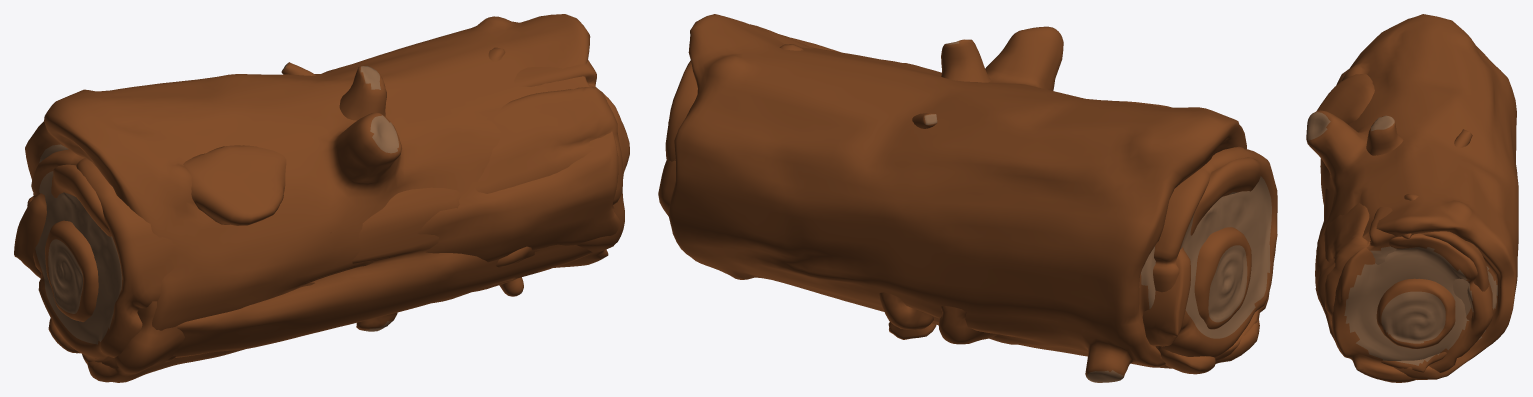
Rendered from logs.fbx.
3 renders of one model, left to right at view 1: azimuth 30°, elevation 25°; view 2: azimuth 150°, elevation 25°; view 3: azimuth 270°, elevation 25°, orthographic. The views are drawn at different scales.
Visible parts, largest first — view 1: Mesh0.004, Mesh0, Mesh0.001, Mesh0.003; view 2: Mesh0.004, Mesh0, Mesh0.001, Mesh0.003; view 3: Mesh0.004, Mesh0.001, Mesh0, Mesh0.003.
Part boxes in pixels (left/top/right/bottom): Mesh0.004: left=25, top=14, right=619, bottom=368; Mesh0: left=27, top=47, right=622, bottom=358; Mesh0.001: left=14, top=62, right=629, bottom=382; Mesh0.003: left=45, top=220, right=98, bottom=321; Mesh0.004: left=668, top=14, right=1259, bottom=382; Mesh0: left=665, top=24, right=1277, bottom=357; Mesh0.001: left=658, top=39, right=1269, bottom=374; Mesh0.003: left=1194, top=227, right=1251, bottom=329; Mesh0.004: left=1306, top=14, right=1518, bottom=379; Mesh0.001: left=1331, top=115, right=1493, bottom=382; Mesh0: left=1317, top=69, right=1488, bottom=372; Mesh0.003: left=1376, top=278, right=1455, bottom=348.
Bounding box in the file's own units: 200 × 106 × 93.95.
